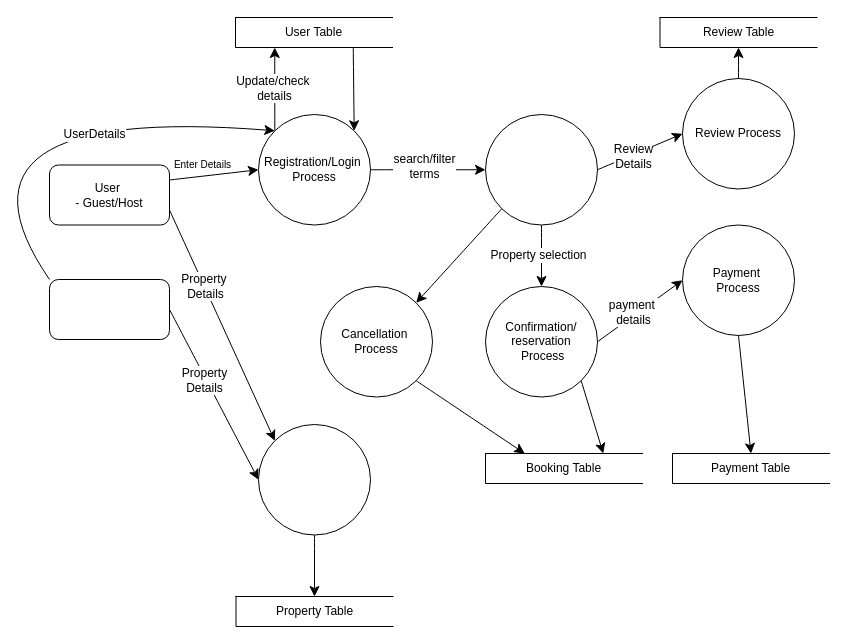
Some shapes in this 847 by 644 pixel diagram are drawn without their labels. The shapes that lost their labels are listed below. From the top down, each one's centre as x and y in pixels, then its label:
[541,169]: Searching Process
[109,309]: System Administrator
[314,479]: Property Management
